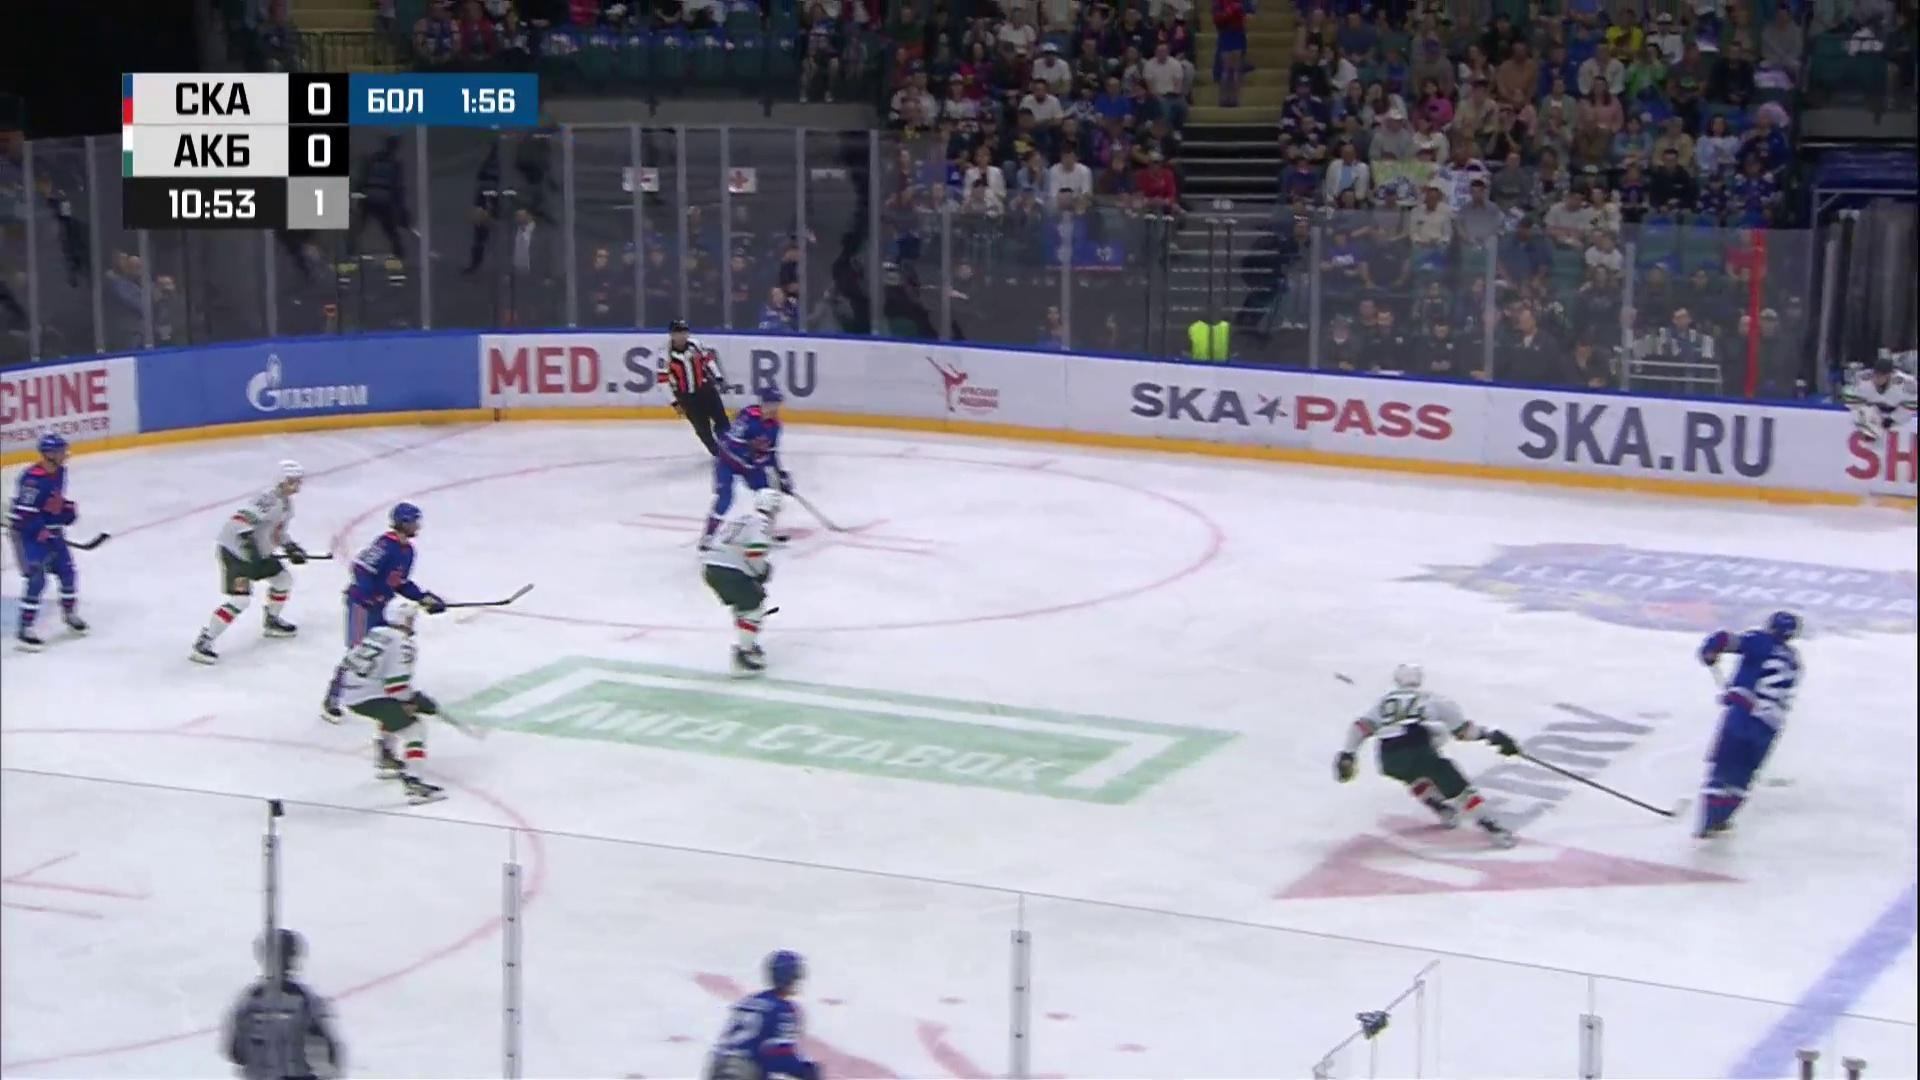ball: (1335, 674, 1354, 686)
